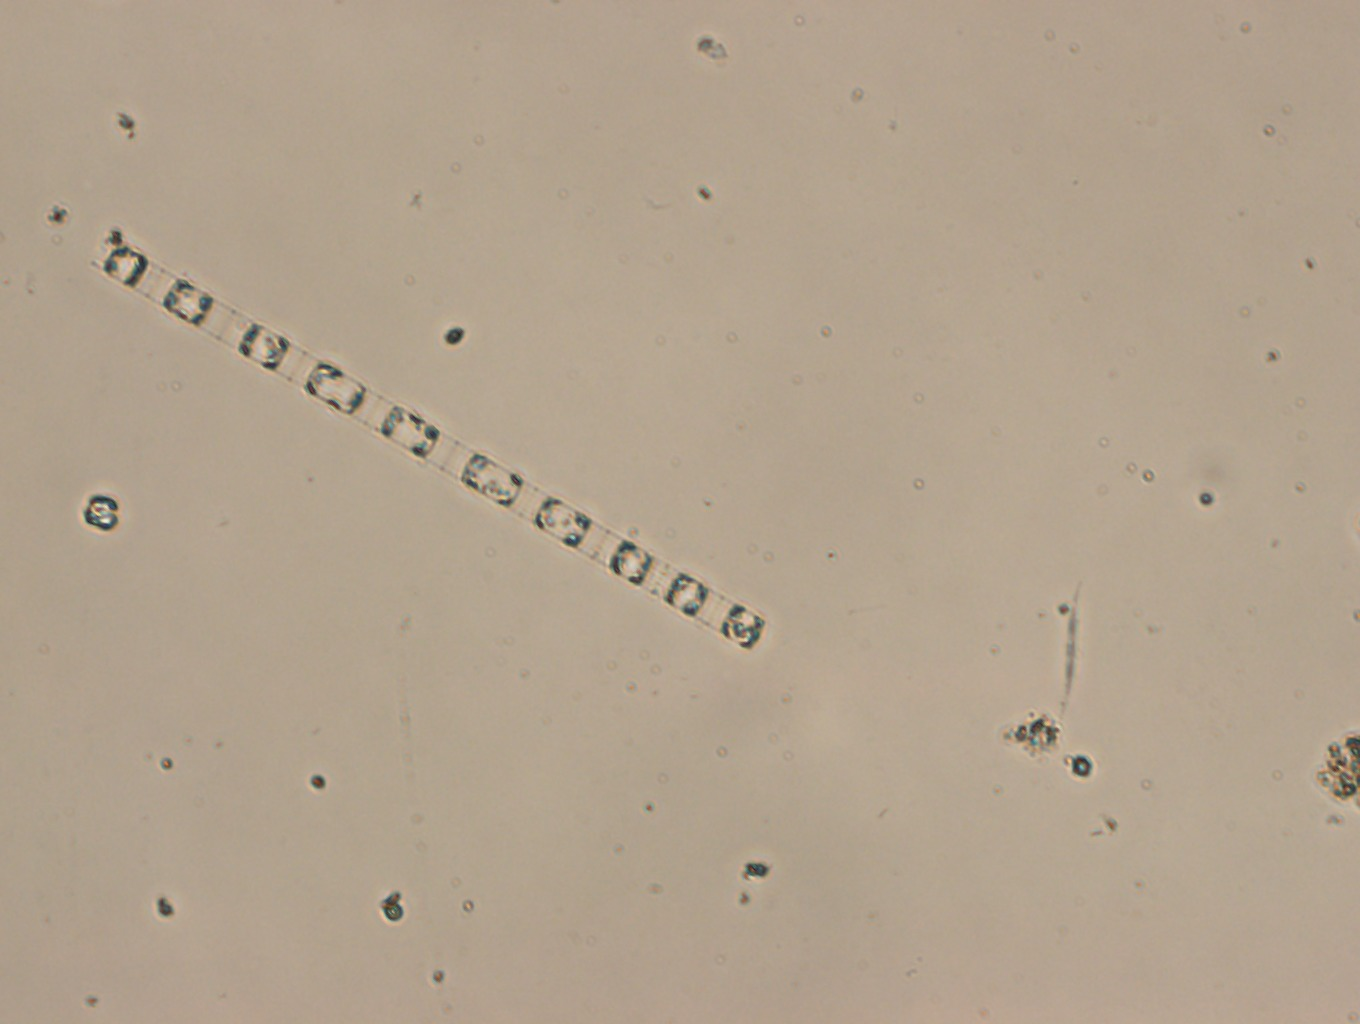skeletonema: (90, 224, 773, 659)
